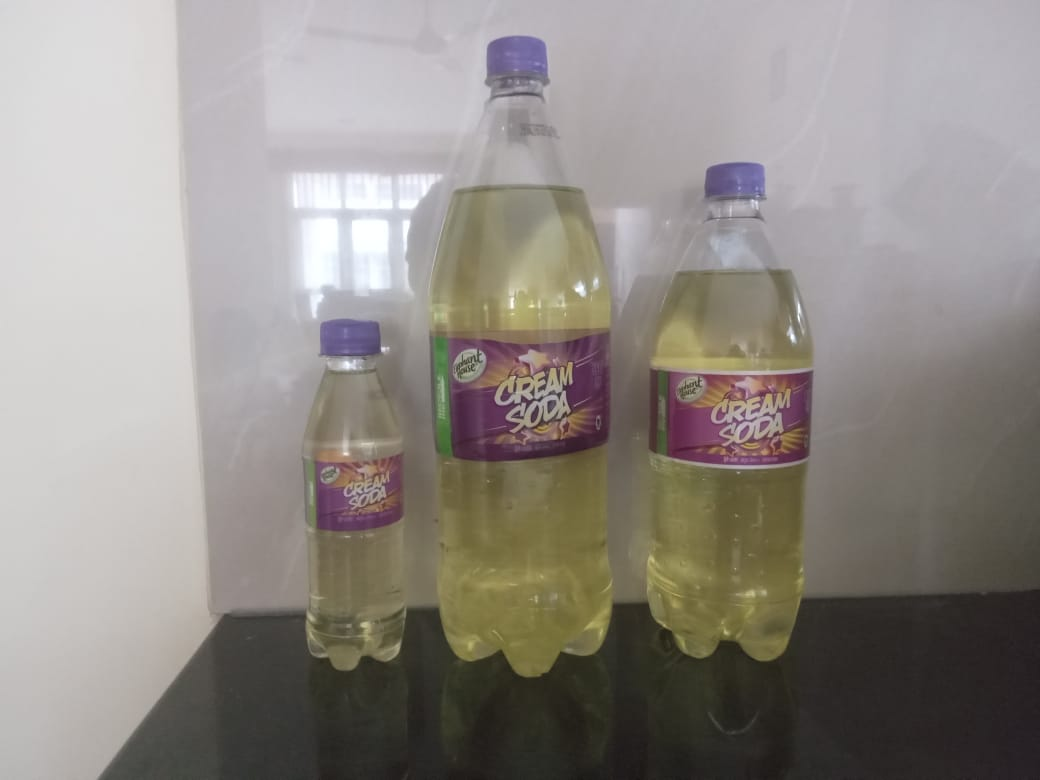L: (423, 28, 620, 690)
M: (645, 161, 819, 678)
Xs: (289, 313, 408, 686)
